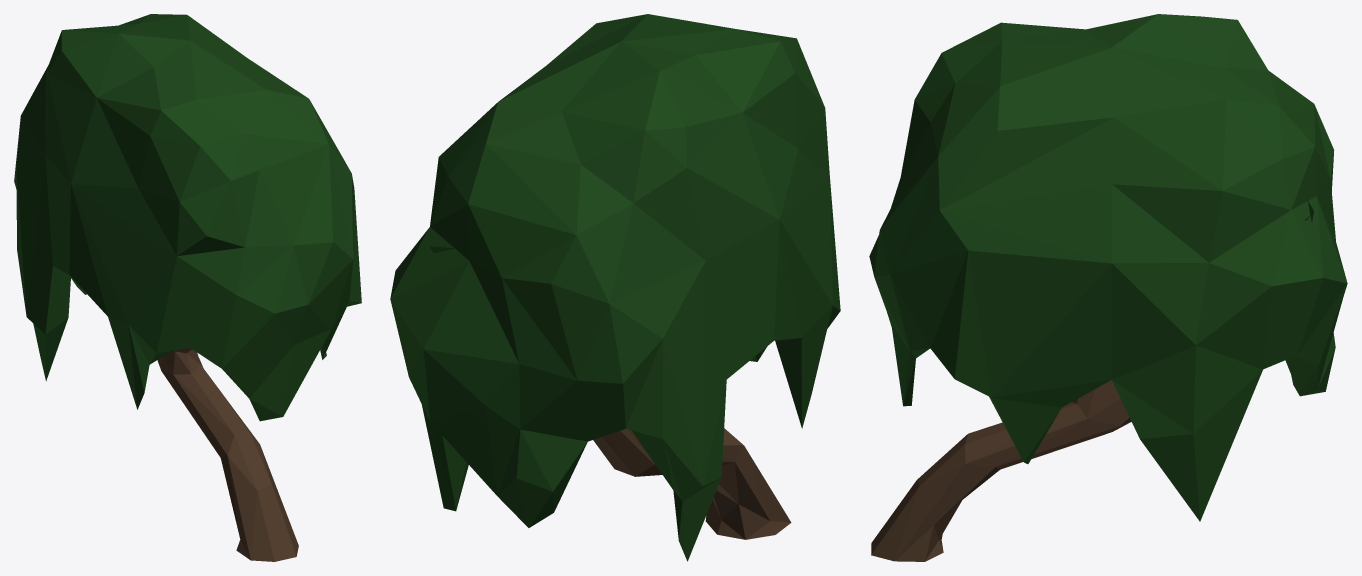
The model's file is tree_c.glb.
The picture shows the model from 3 angles, left to right: view 1: azimuth 30°, elevation 25°; view 2: azimuth 150°, elevation 25°; view 3: azimuth 270°, elevation 25°; orthographic projection. The views are drawn at different scales.
Visible parts, largest first — view 1: tree_c; view 2: tree_c; view 3: tree_c.
Boxes of the visible parts, x1=… form: tree_c: x1=14, y1=14, x2=361, y2=561; tree_c: x1=390, y1=14, x2=840, y2=561; tree_c: x1=869, y1=14, x2=1347, y2=561.
Size of the model in its own units: 1.3 by 2.35 by 1.99.
